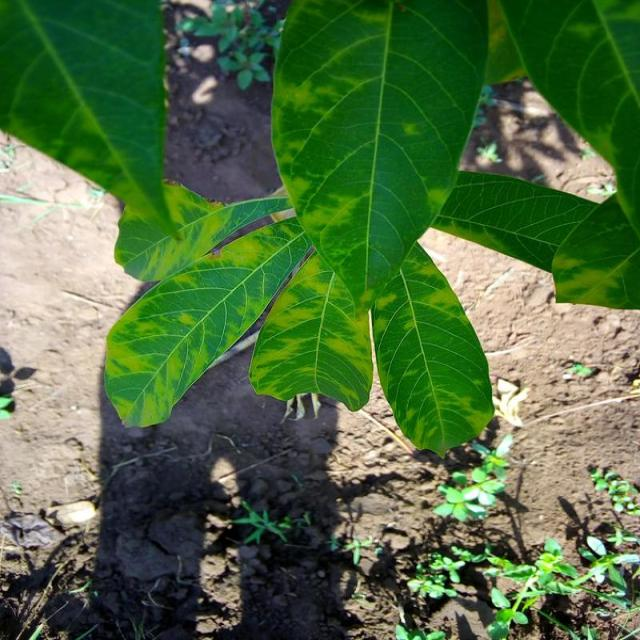cassava leaf: (1, 0, 638, 457), (268, 0, 489, 311), (102, 191, 313, 429), (0, 0, 180, 252), (370, 239, 494, 458), (247, 247, 374, 412)
